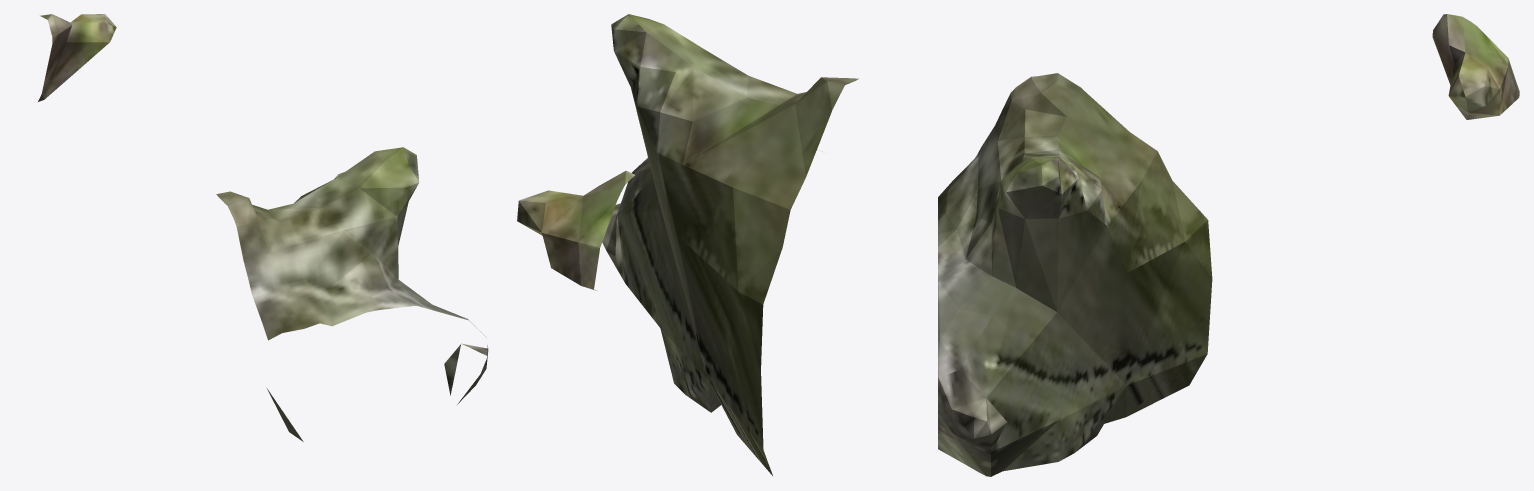
The picture shows the model from 3 angles, left to right: view 1: azimuth 30°, elevation 25°; view 2: azimuth 150°, elevation 25°; view 3: azimuth 270°, elevation 25°; orthographic projection. The views are drawn at different scales.
Size of the model in its own units: 0.7122 by 0.9427 by 1.33.
Materials: 1 (1 with a texture image).
